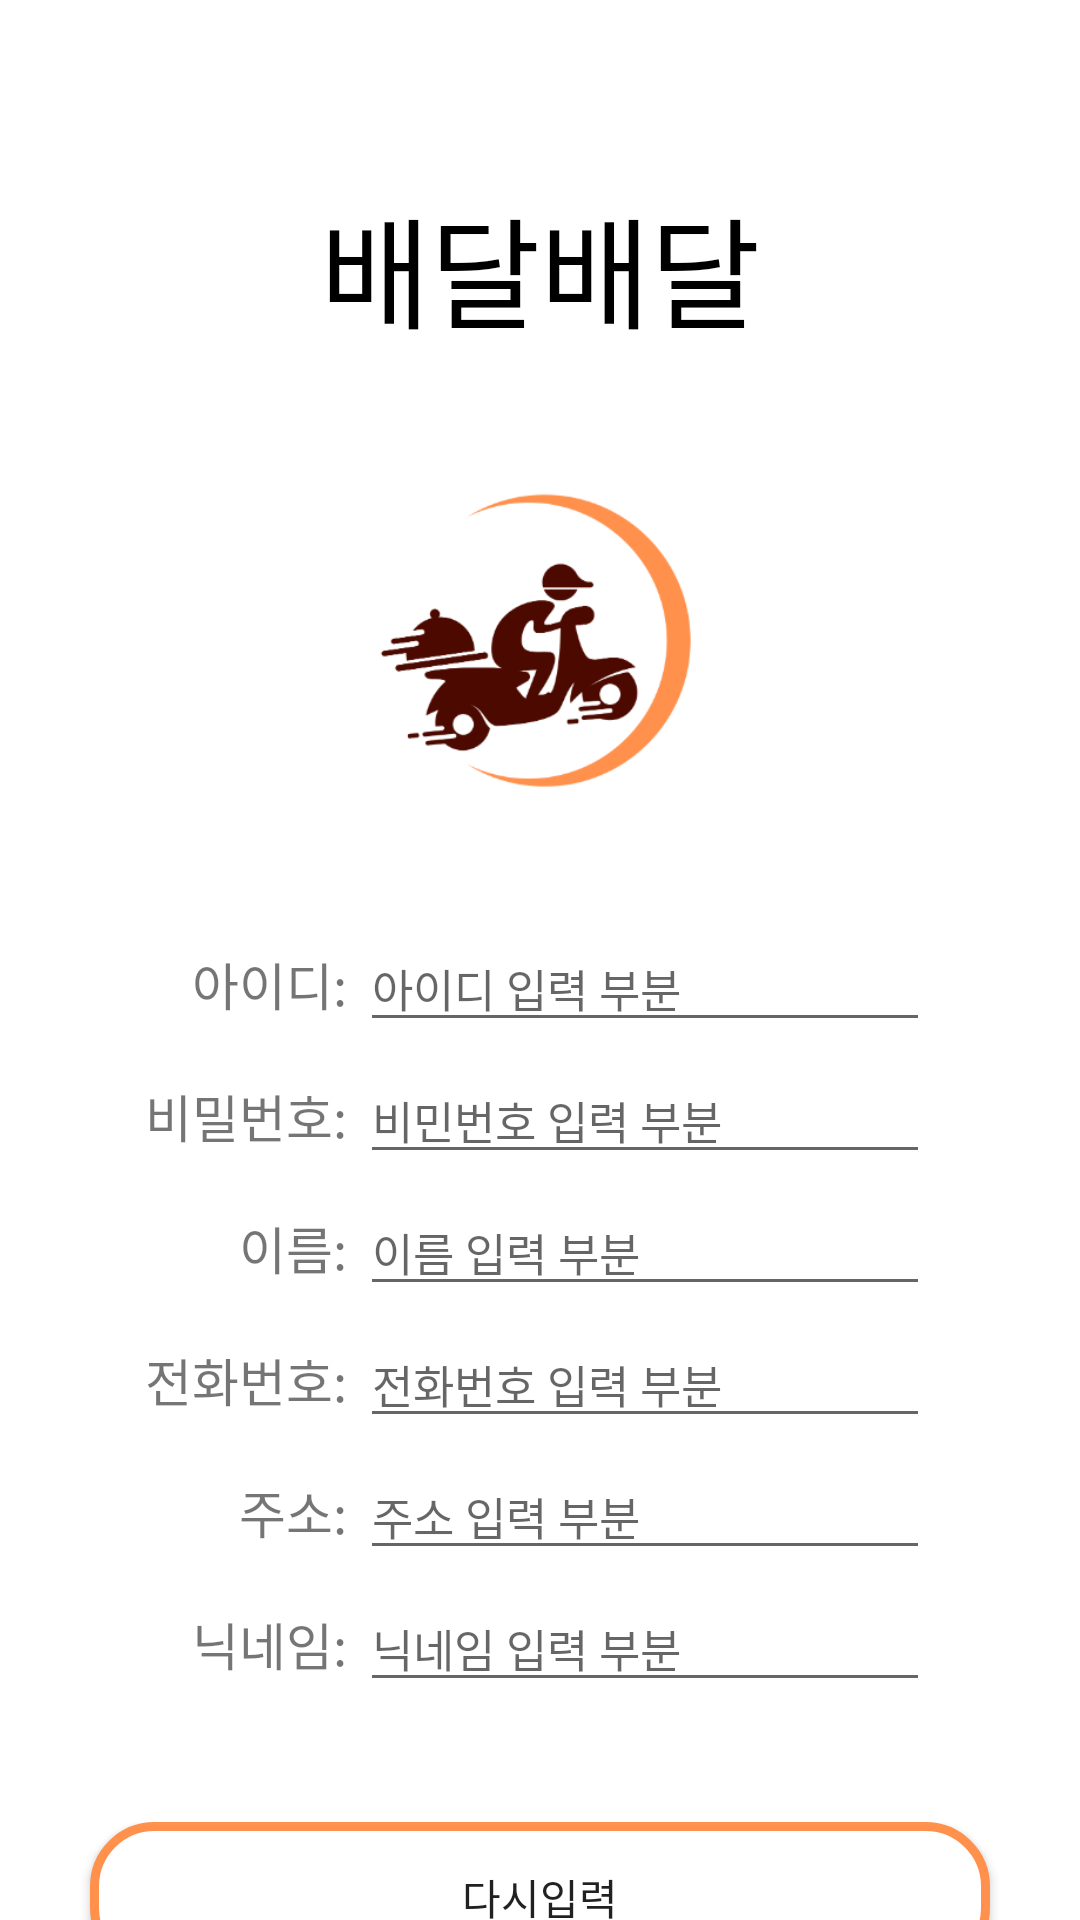

Named icons in this screenshot (1080w x 1920h) and their centers, point (x, y):
baedal: point (536, 640)
